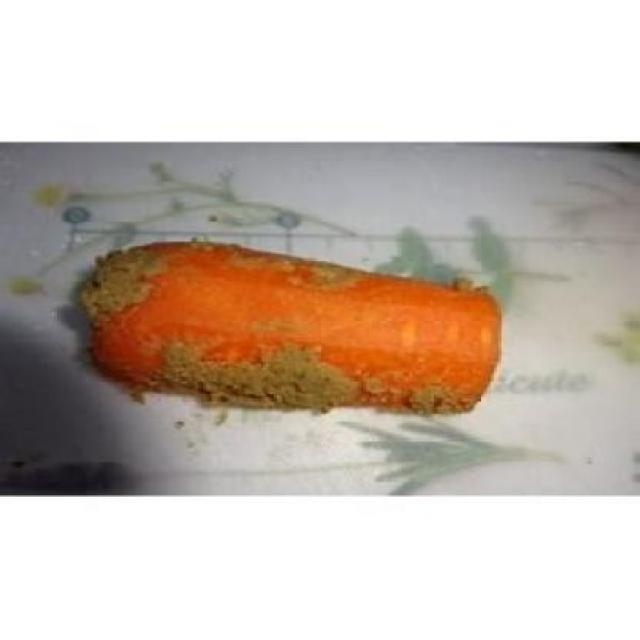carrot: (35, 216, 511, 449)
